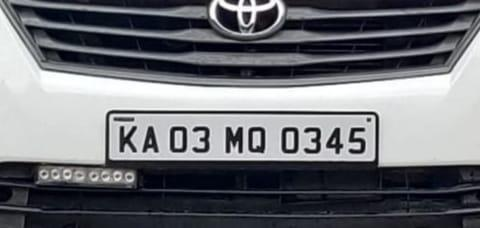0: (167, 123, 190, 156), (279, 123, 301, 156)
3: (302, 124, 324, 158), (191, 124, 213, 157)
4: (325, 122, 348, 161)
5: (345, 123, 370, 156)
A: (141, 122, 160, 156)
K: (113, 121, 140, 156)
M: (223, 124, 247, 156)
Q: (248, 126, 270, 156)
